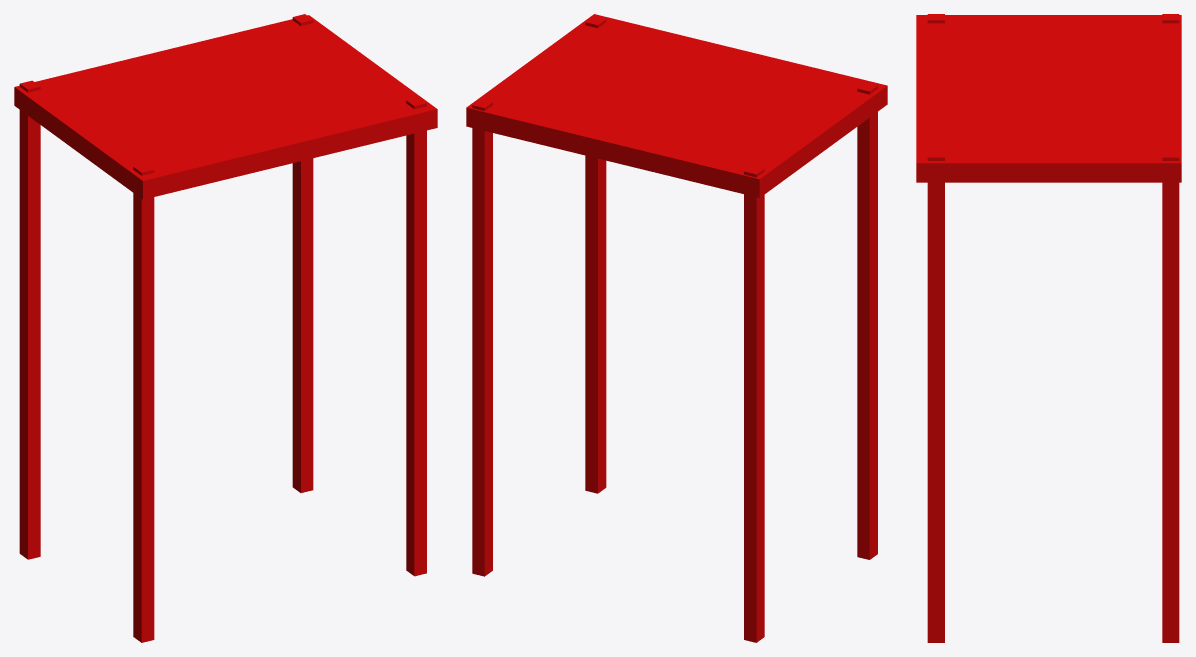
Rendered from SM_Bld_Junk_Shelter_05_Collision.fbx.
The picture shows the model from 3 angles, left to right: view 1: azimuth 30°, elevation 25°; view 2: azimuth 150°, elevation 25°; view 3: azimuth 270°, elevation 25°; orthographic projection. The views are drawn at different scales.
Parts seen in each view (by area): view 1: SM_Bld_Junk_Shelter_05_Collision; view 2: SM_Bld_Junk_Shelter_05_Collision; view 3: SM_Bld_Junk_Shelter_05_Collision.
Part boxes in pixels (x1=…): SM_Bld_Junk_Shelter_05_Collision: x1=14, y1=14, x2=437, y2=642; SM_Bld_Junk_Shelter_05_Collision: x1=466, y1=14, x2=887, y2=642; SM_Bld_Junk_Shelter_05_Collision: x1=916, y1=14, x2=1181, y2=642.
Bounding box in the file's own units: 187 × 286 × 141.
